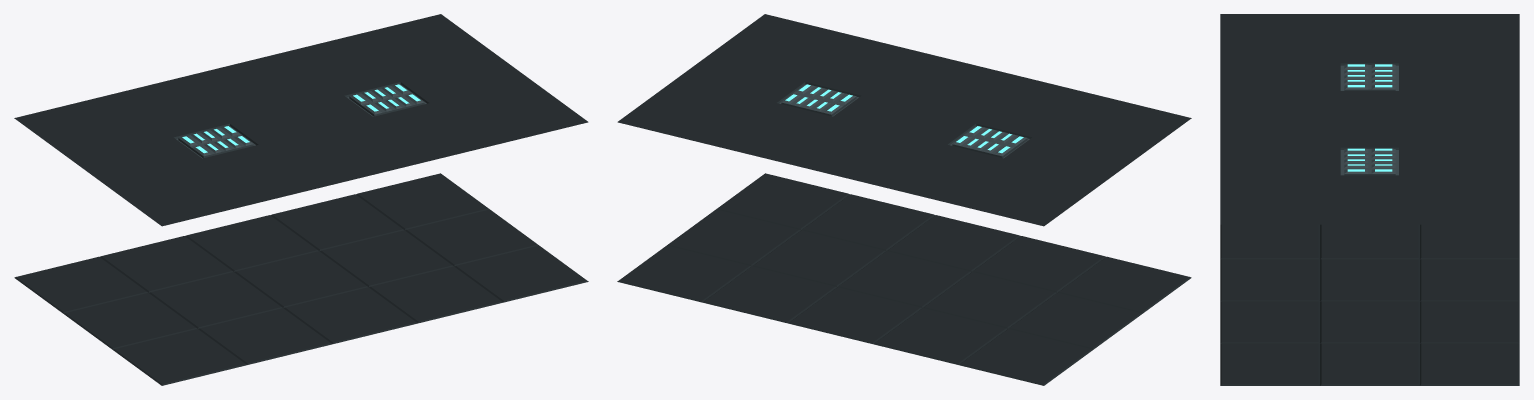
The model's file is hallMid02.fbx.
3 views of the same model, side by side, from view 1: azimuth 30°, elevation 25°; view 2: azimuth 150°, elevation 25°; view 3: azimuth 270°, elevation 25° (orthographic).
Visible parts, largest first — view 1: hallMid02; view 2: hallMid02; view 3: hallMid02.
Part boxes in pixels (box(x1,y1,x2,y2)): hallMid02: box(14, 14, 588, 385); hallMid02: box(617, 14, 1191, 385); hallMid02: box(1220, 14, 1519, 385).
Size of what is drawn, in the model's own units: 10 by 6 by 3.6.
